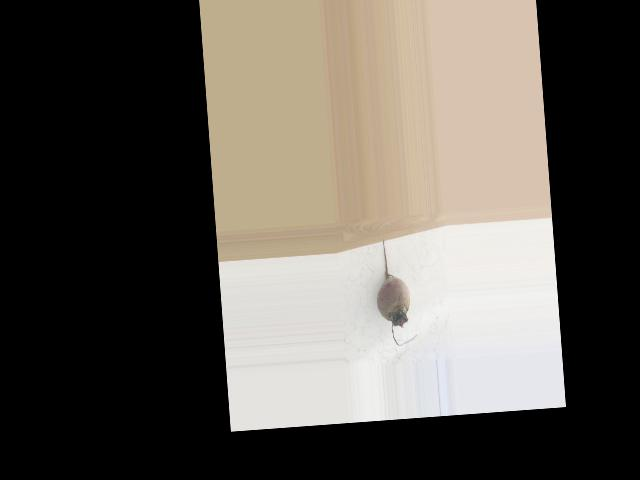beet: (372, 236, 417, 346)
